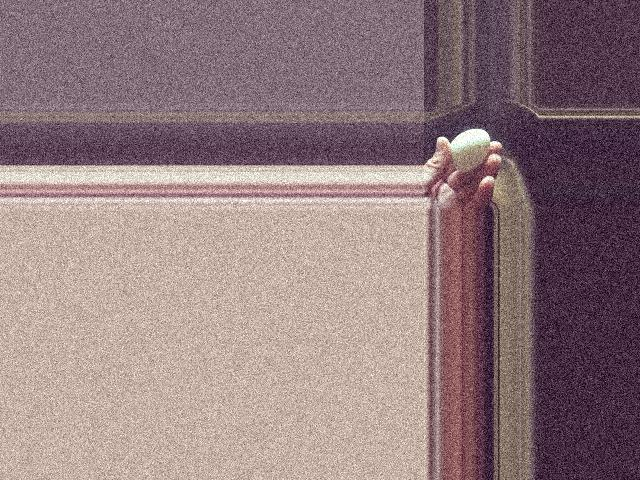egg: (449, 129, 489, 171)
